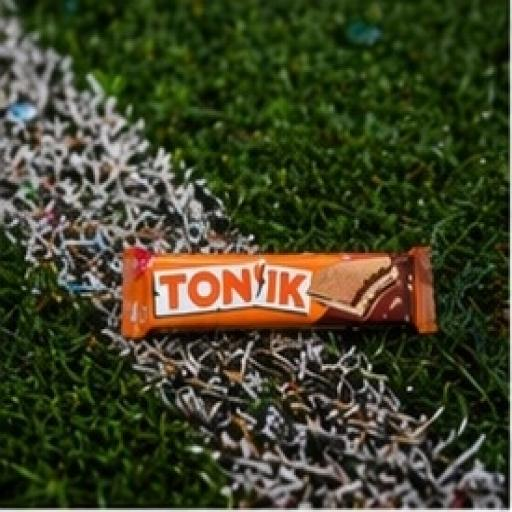tonik: (81, 207, 472, 419)
